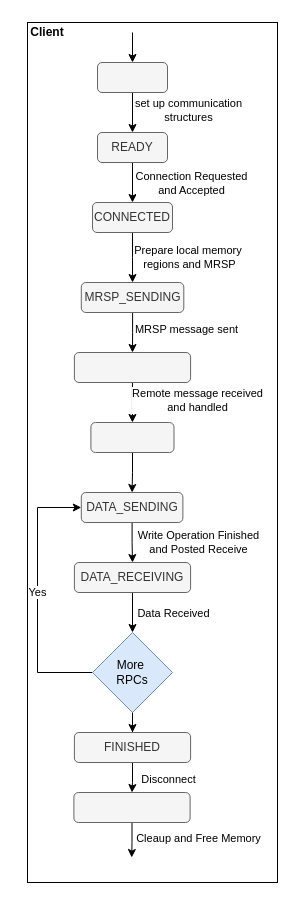
The diagram is 295 pixels wide and 900 high, and some of its shapes have lost their labels. Each missing label, with the centre of its shape:
DISCONNECTED: the point at 131,807
INIT: the point at 132,77
MRSP_DONE: the point at 132,437
MRSP_RECEIVING: the point at 132,367
